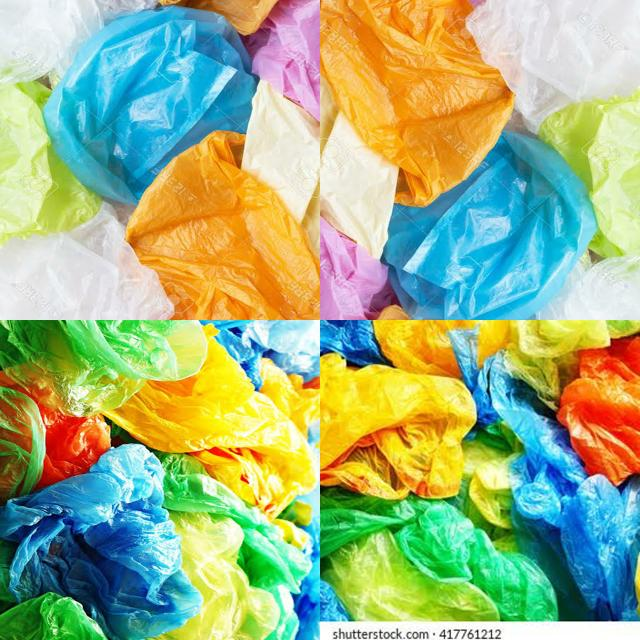Single-layer Plastic: (451, 330, 640, 621), (44, 6, 256, 204), (382, 132, 596, 319), (321, 0, 514, 206), (108, 325, 315, 517), (0, 444, 202, 640), (126, 131, 320, 319), (320, 488, 558, 621), (466, 0, 640, 132), (320, 355, 476, 500), (160, 454, 311, 593), (0, 202, 174, 320), (0, 320, 206, 416), (539, 88, 640, 258), (0, 81, 101, 246), (321, 529, 500, 621), (152, 511, 280, 639), (0, 372, 111, 504), (0, 0, 158, 86), (558, 336, 640, 485), (319, 111, 399, 258), (241, 80, 321, 222), (506, 320, 610, 410), (242, 0, 320, 119), (455, 421, 522, 551), (374, 319, 512, 378), (320, 218, 395, 320), (212, 320, 319, 389), (536, 251, 640, 320), (320, 320, 390, 367)
